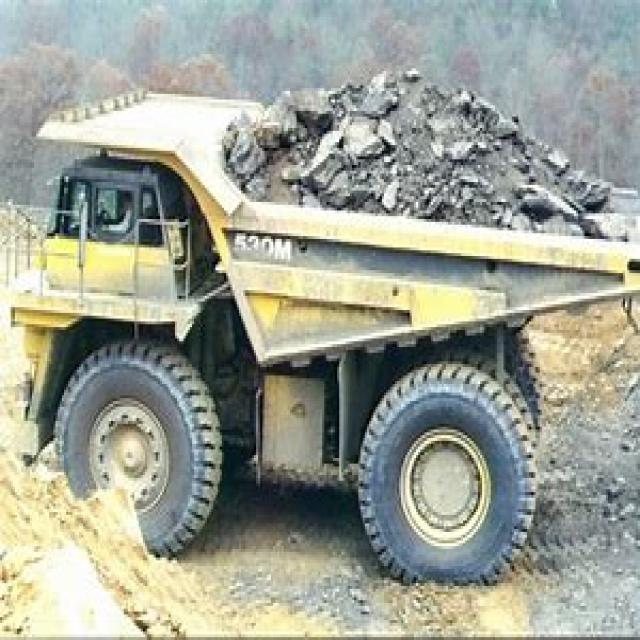dump_truck: (12, 34, 634, 586)
